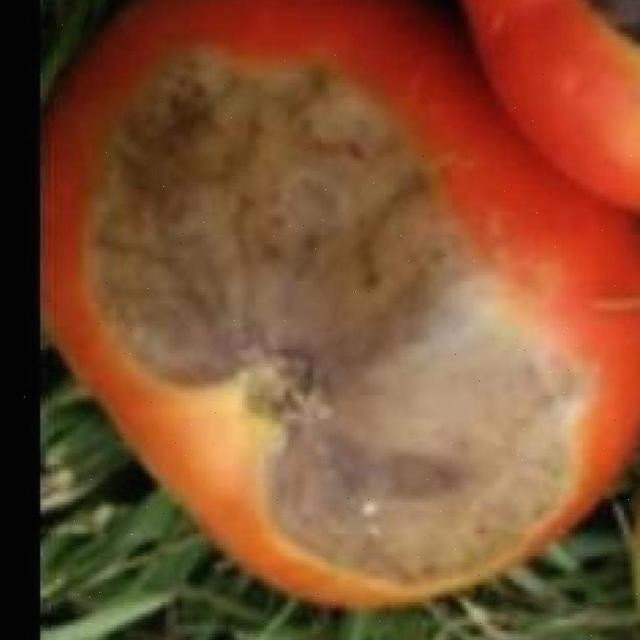Blossom End Rot Fruit: (65, 27, 394, 371)
